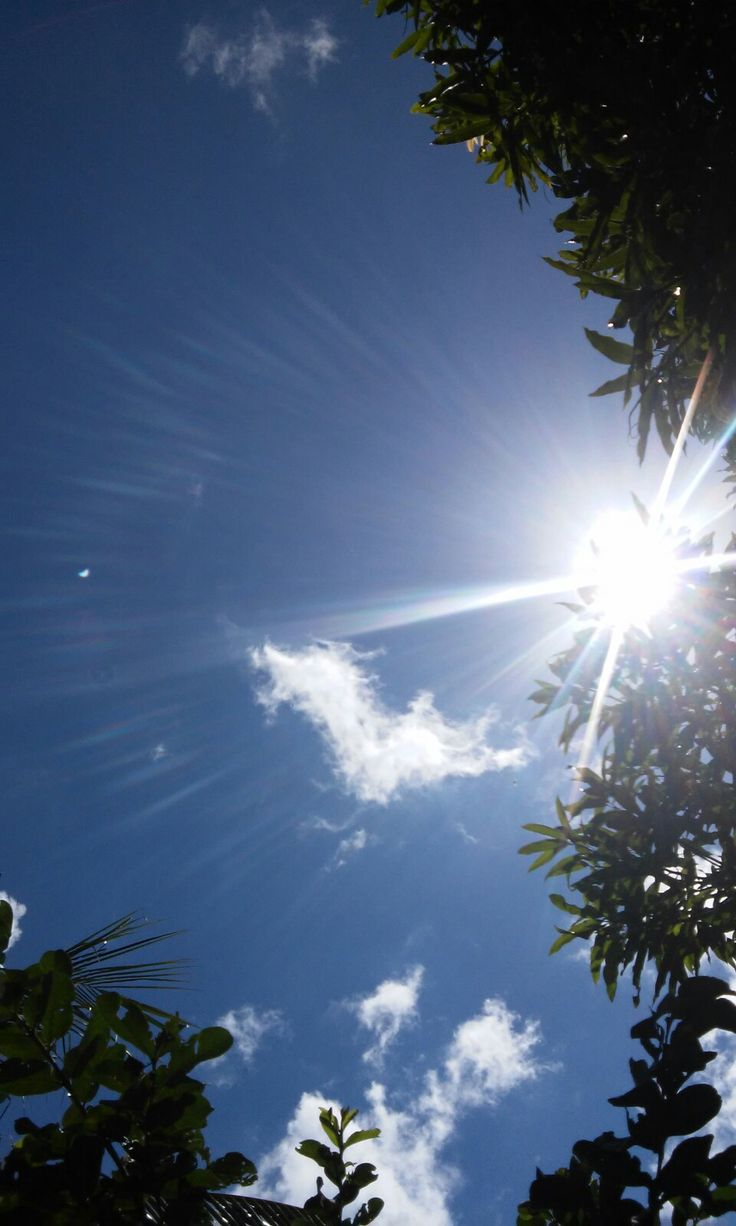sun: (527, 454, 731, 639)
